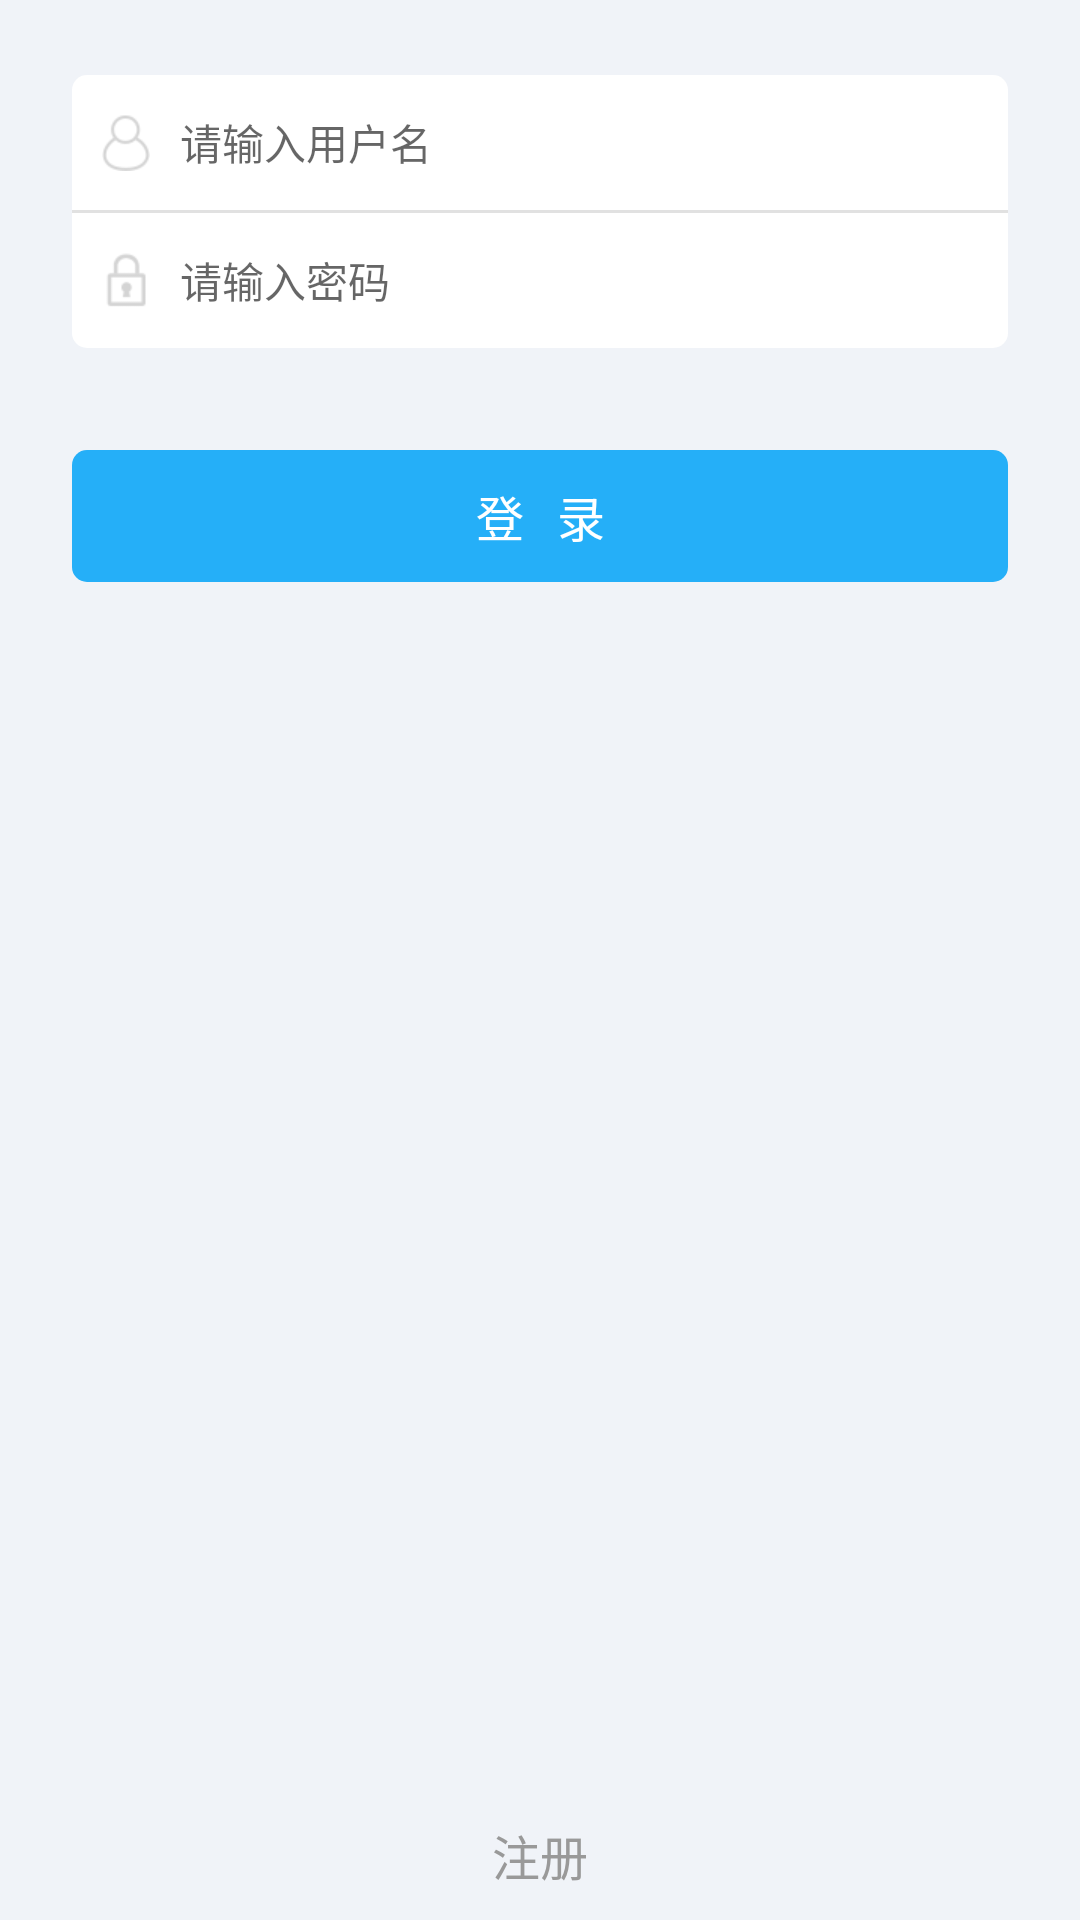

Icons on this 1080×1920 Android screen, each with the point to tap as (x,y):
login password: (126,280)
login uesr: (126,143)
